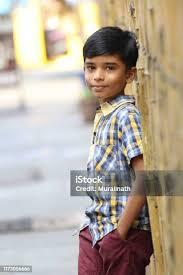Human: (61, 28, 165, 275)
